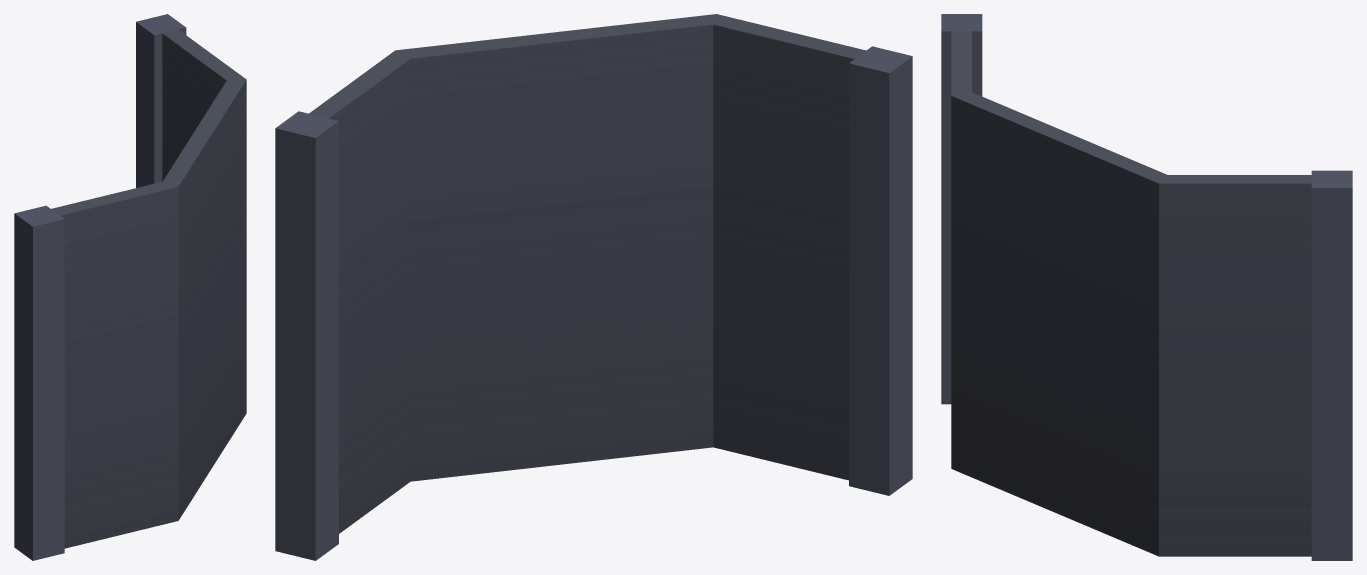
Rendered from wall-corner-diagonal.glb.
3 renders of one model, left to right at view 1: azimuth 30°, elevation 25°; view 2: azimuth 150°, elevation 25°; view 3: azimuth 270°, elevation 25°, orthographic. The views are drawn at different scales.
Parts seen in each view (by area): view 1: wall-corner-diagonal; view 2: wall-corner-diagonal; view 3: wall-corner-diagonal.
Part boxes in pixels (box(x1,y1,x2,y2)): wall-corner-diagonal: box(14, 14, 246, 560); wall-corner-diagonal: box(275, 14, 912, 560); wall-corner-diagonal: box(941, 14, 1352, 560).
Size of the model in its own units: 1 by 1 by 1.
1 material, 1 textured.
